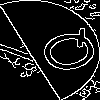Q: (25, 25, 100, 81)
